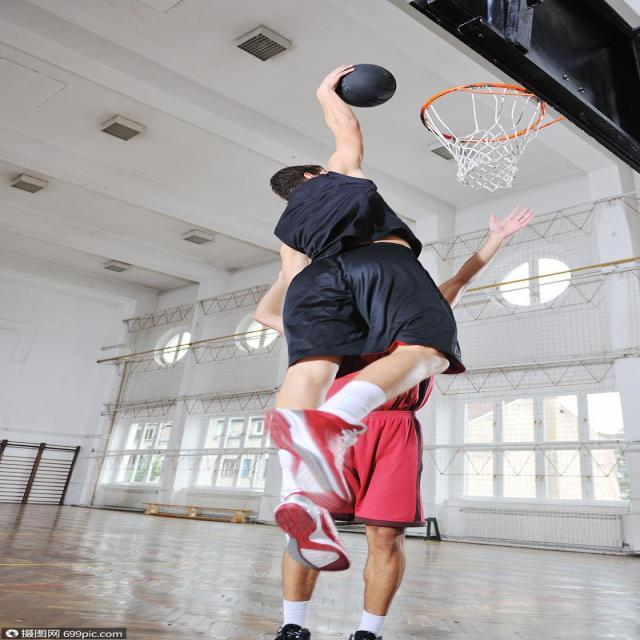rim: (333, 62, 398, 106)
